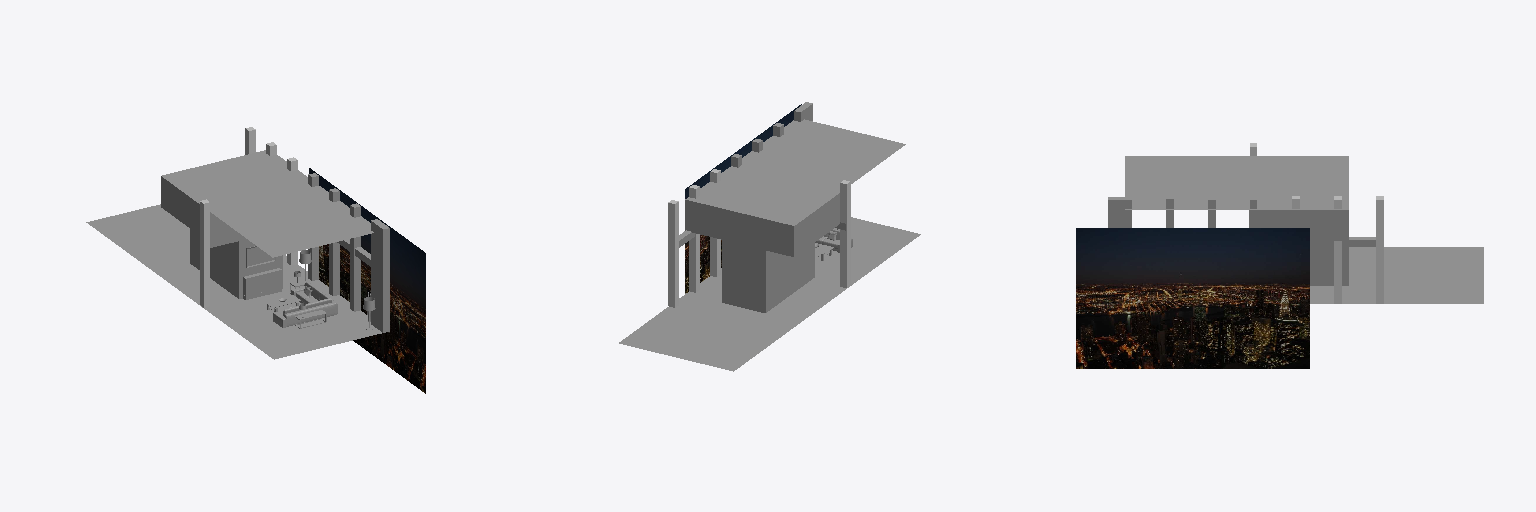
3 renders of one model, left to right at view 1: azimuth 30°, elevation 25°; view 2: azimuth 150°, elevation 25°; view 3: azimuth 270°, elevation 25°, orthographic.
Visible parts, largest first — view 1: Cube.005_Cube.006, Plane, image01991, Cube.032_Cube.036, Cube.021_Cube.022, Cube.001_Cube.002, Cube.030_Cube.034, Cube.029_Cube.033, Cube.004_Cube.007; view 2: Cube.005_Cube.006, Plane, image01991, Cube.024_Cube.028, Cube.001_Cube.002, Cube.026_Cube.030, Cube.025_Cube.029; view 3: image01991, Cube.005_Cube.006, Plane, Cube.024_Cube.028, Cube.032_Cube.036, Cube.026_Cube.030.
Part boxes in pixels (left/top/right/bottom): Cube.005_Cube.006: left=161, top=150, right=373, bottom=298; Plane: left=86, top=204, right=381, bottom=359; image01991: left=309, top=168, right=425, bottom=393; Cube.032_Cube.036: left=371, top=219, right=389, bottom=332; Cube.021_Cube.022: left=273, top=282, right=337, bottom=327; Cube.001_Cube.002: left=200, top=199, right=209, bottom=307; Cube.030_Cube.034: left=350, top=203, right=360, bottom=311; Cube.029_Cube.033: left=329, top=188, right=339, bottom=295; Cube.004_Cube.007: left=243, top=274, right=281, bottom=295; Cube.005_Cube.006: left=685, top=119, right=905, bottom=312; Plane: left=619, top=217, right=920, bottom=371; image01991: left=685, top=104, right=801, bottom=293; Cube.024_Cube.028: left=668, top=200, right=678, bottom=307; Cube.001_Cube.002: left=840, top=180, right=850, bottom=287; Cube.026_Cube.030: left=689, top=185, right=699, bottom=292; Cube.025_Cube.029: left=710, top=169, right=720, bottom=276; image01991: left=1076, top=228, right=1309, bottom=368; Cube.005_Cube.006: left=1125, top=156, right=1348, bottom=285; Plane: left=1310, top=247, right=1483, bottom=303; Cube.024_Cube.028: left=1376, top=196, right=1383, bottom=303; Cube.032_Cube.036: left=1108, top=197, right=1131, bottom=227; Cube.026_Cube.030: left=1334, top=196, right=1341, bottom=303.
Size of the model in its own units: 18.88 by 21.25 by 49.16.
Materials: 18 (1 with a texture image).